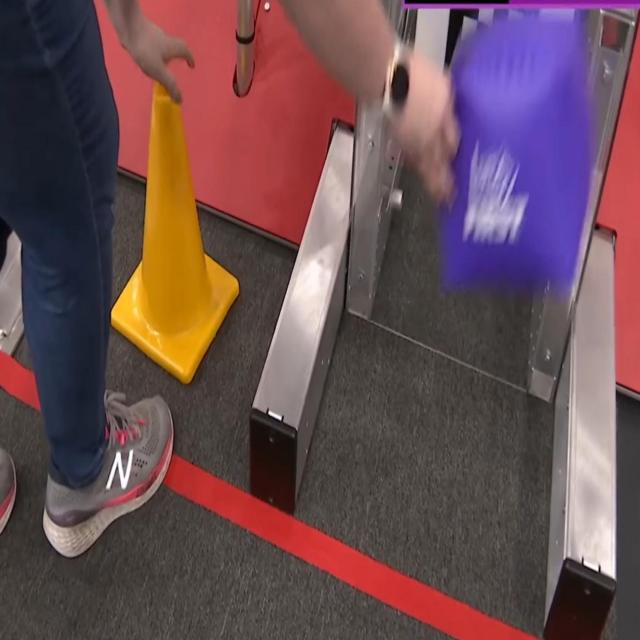frc_cone: (106, 78, 239, 387)
frc_cube: (439, 20, 593, 295)
